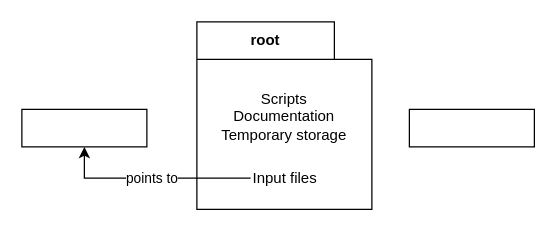
Some shapes in this 556 by 231 pixel diagram are drawn without their labels. The shapes that lost their labels are listed below. From the top down, each one's centre as x and y in pixels, then its label:
point 84,127: Raster Input files
point 471,127: Output files
